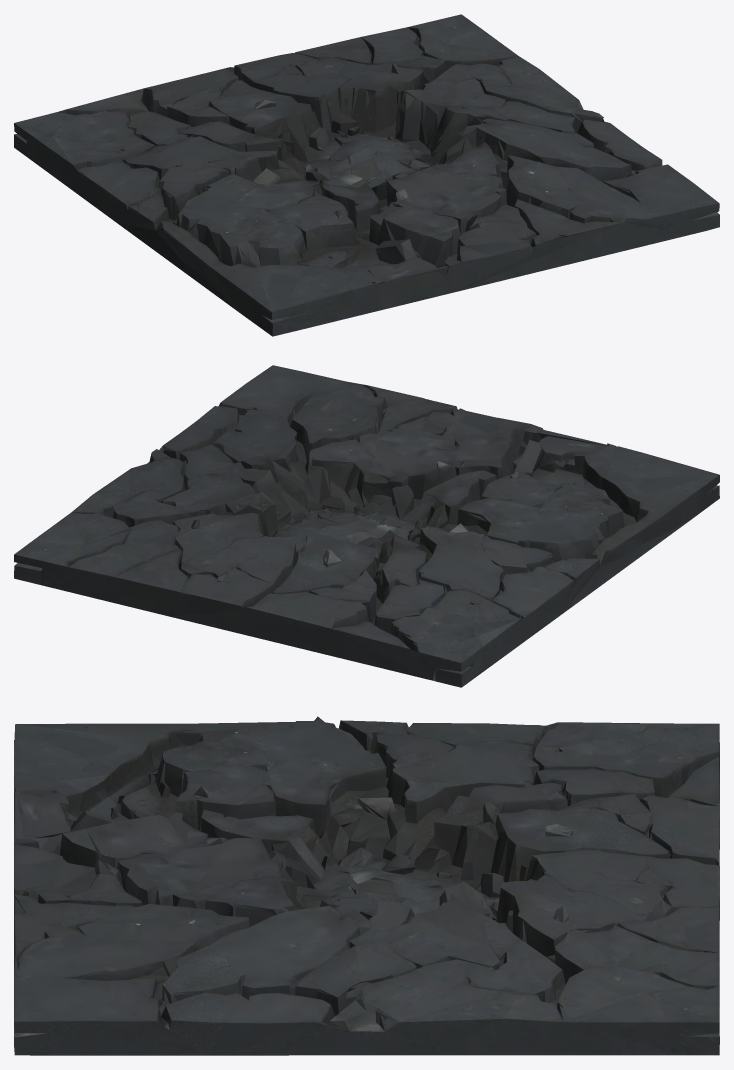
The model's file is crash_skid_trench.glb.
3 views of the same model, one above another, from view 1: azimuth 30°, elevation 25°; view 2: azimuth 150°, elevation 25°; view 3: azimuth 270°, elevation 25° (orthographic). The views are drawn at different scales.
Bounding box in the file's own units: 1.9 × 0.2197 × 1.9.
Materials: 1 (1 with a texture image).
